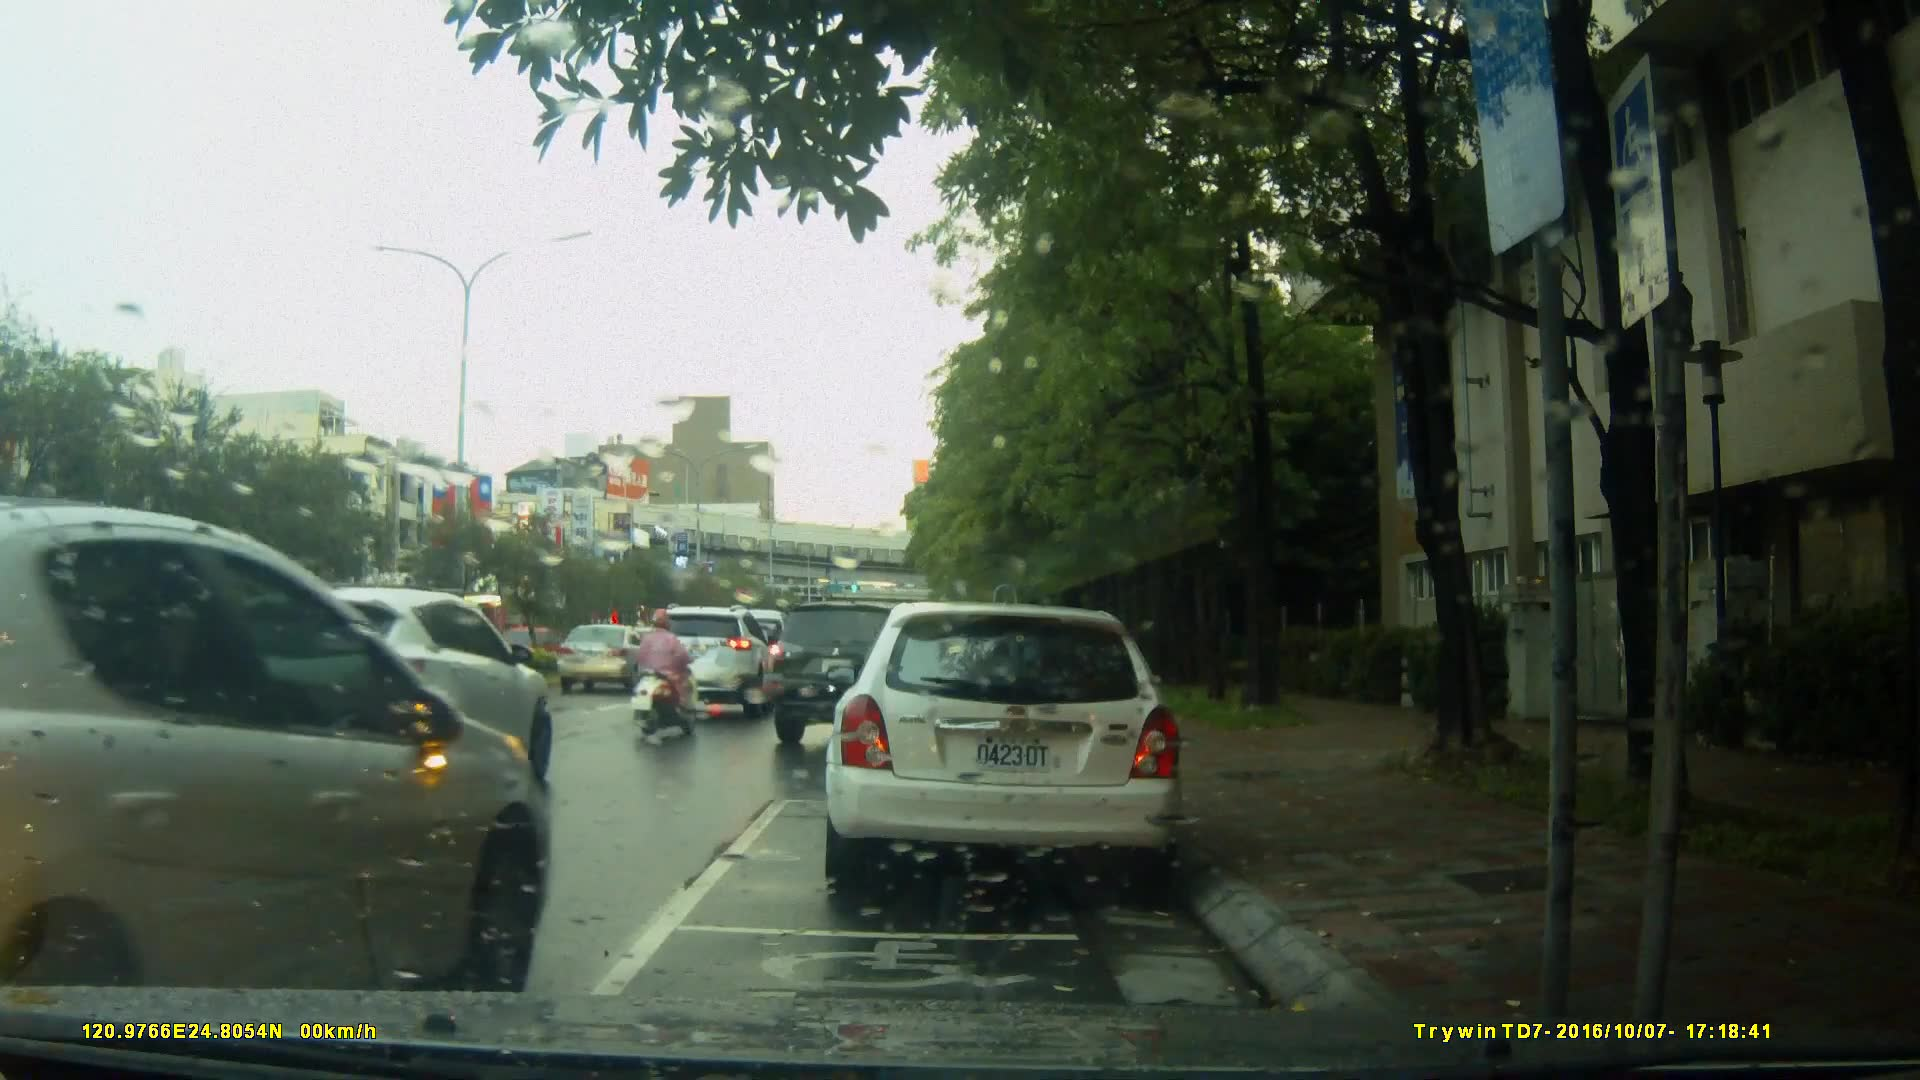rider: (633, 605, 701, 746)
vehicle: (1, 494, 556, 991), (820, 602, 1188, 898), (195, 582, 555, 802), (764, 600, 987, 754), (639, 606, 782, 721), (552, 621, 656, 695)
